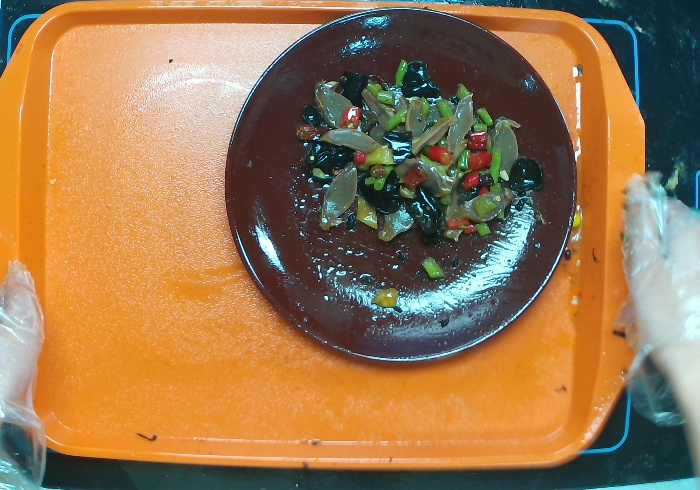HZYJPL-Ka_Fei_Yuan_Pan: (219, 3, 582, 372)
